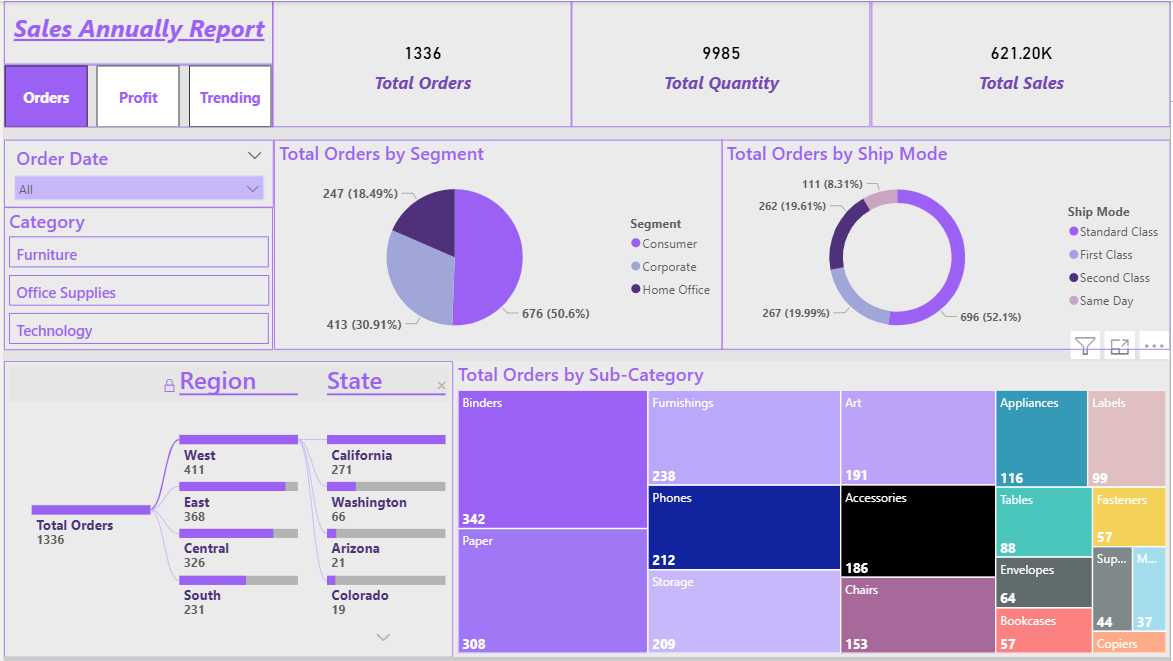

What the dashboard file says about the page in this screenshot:
{"tool":"powerbi","page":{"name":"Orders","canvas":[1280,720],"ordinal":0},"visuals":[{"type":"slicer","fields":{"Values":["Order_Data.Order Date.Variation.Date Hierarchy.Year","Order_Data.Order Date.Variation.Date Hierarchy.Quarter"]},"box":[0,152.3,296.4,74.1],"z":0},{"type":"card","fields":{"Values":["#Measurs.Total Orders"]},"box":[295,0,328,138.6],"z":2000},{"type":"card","fields":{"Values":["#Measurs.Total Quantity"]},"box":[623,0,328,138.6],"z":3000},{"type":"advancedSlicerVisual","fields":{"Values":["Superstore.Category"]},"box":[0,226.4,295,156.4],"z":5000},{"type":"decompositionTreeVisual","fields":{"Analyze":["#Measurs.Total Orders"],"ExplainBy":["Superstore.Region","Superstore.State"]},"box":[0,395.2,492.6,325.2],"z":6000},{"type":"pieChart","fields":{"Category":["Superstore.Segment"],"Y":["#Measurs.Total Orders"]},"box":[296.4,152.3,492.6,230.5],"z":7000},{"type":"treemap","fields":{"Group":["Superstore.Sub-Category"],"Values":["#Measurs.Total Orders"]},"box":[492.6,395.2,787.7,325.2],"z":8000},{"type":"donutChart","fields":{"Category":["Superstore.Ship Mode"],"Y":["#Measurs.Total Orders"]},"box":[787.7,152.3,492.6,230.5],"z":10000},{"type":"pageNavigator","box":[0,70,295,68.6],"z":12000},{"type":"textbox","box":[0,0,295,70],"z":13000},{"type":"card","fields":{"Values":["#Measurs.Total Sales"]},"box":[952.3,0,328,138.6],"z":13001}]}

Visuals, with their boxes in screenshot pixels (x1, y1, x2, y2), scaled from the page's 1280x720 canvas onto the 1173x661 screenshot:
slicer - Order_Data.Order Date.Variation.Date Hierarchy.Year x Order_Data.Order Date.Variation.Date Hierarchy.Quarter: 0, 140, 272, 208
card - #Measurs.Total Orders: 270, 0, 571, 127
card - #Measurs.Total Quantity: 571, 0, 872, 127
advancedSlicerVisual - Superstore.Category: 0, 208, 270, 351
decompositionTreeVisual - #Measurs.Total Orders x Superstore.Region: 0, 363, 451, 660
pieChart - Superstore.Segment x #Measurs.Total Orders: 272, 140, 723, 351
treemap - Superstore.Sub-Category x #Measurs.Total Orders: 451, 363, 1172, 660
donutChart - Superstore.Ship Mode x #Measurs.Total Orders: 722, 140, 1172, 351
pageNavigator: 0, 64, 270, 127
textbox: 0, 0, 270, 64
card - #Measurs.Total Sales: 873, 0, 1172, 127
